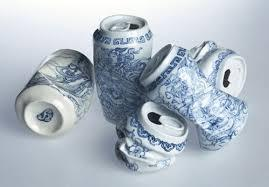Aluminum can: (148, 49, 241, 149), (19, 38, 95, 139), (102, 99, 189, 173), (88, 11, 160, 95)
